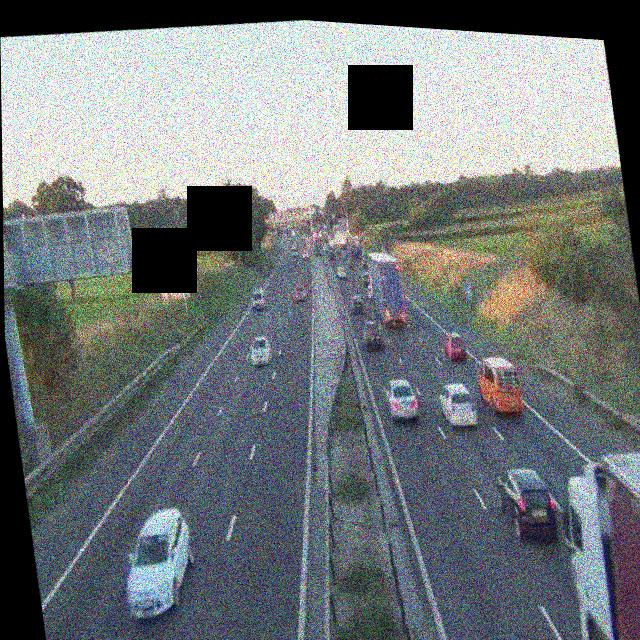car: (115, 502, 202, 624), (494, 464, 559, 546), (475, 351, 525, 418), (437, 381, 477, 430), (384, 375, 420, 422), (441, 330, 467, 364), (248, 334, 272, 367), (362, 320, 384, 352), (250, 284, 267, 312), (349, 293, 366, 317), (292, 281, 307, 302), (361, 271, 372, 291), (336, 264, 347, 280), (328, 251, 337, 265), (301, 248, 309, 261)
truck: (554, 445, 640, 640), (369, 248, 409, 329), (351, 238, 365, 265)
